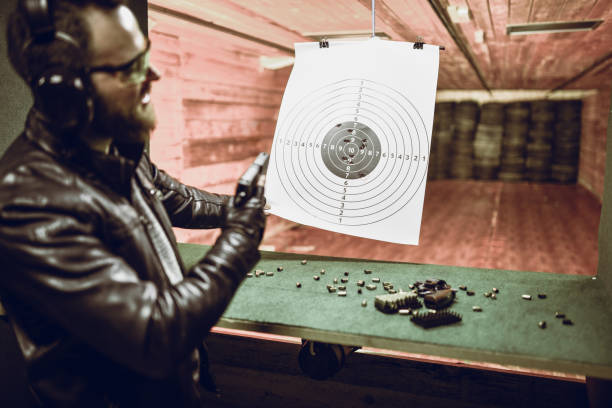gun: (233, 152, 271, 207)
